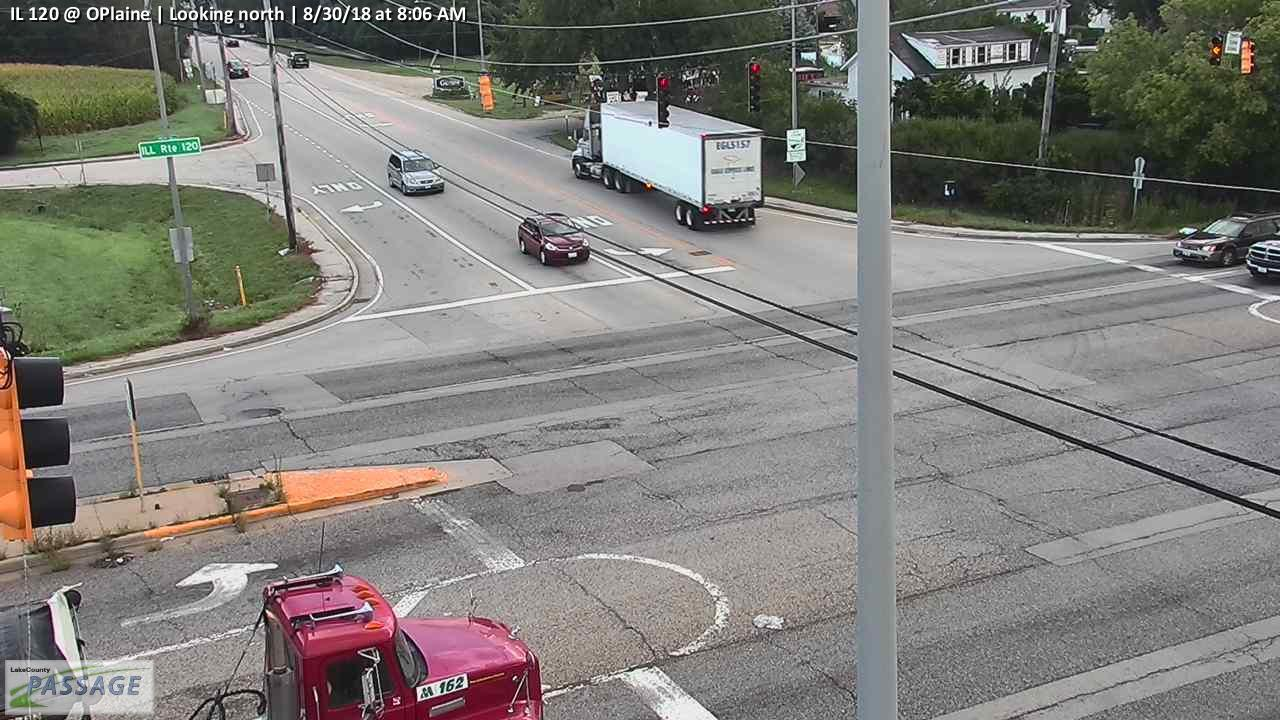SUV: (1173, 209, 1278, 268), (517, 211, 590, 266), (386, 149, 445, 195), (226, 58, 250, 79), (286, 50, 310, 68)
Truck: (570, 88, 764, 232)
